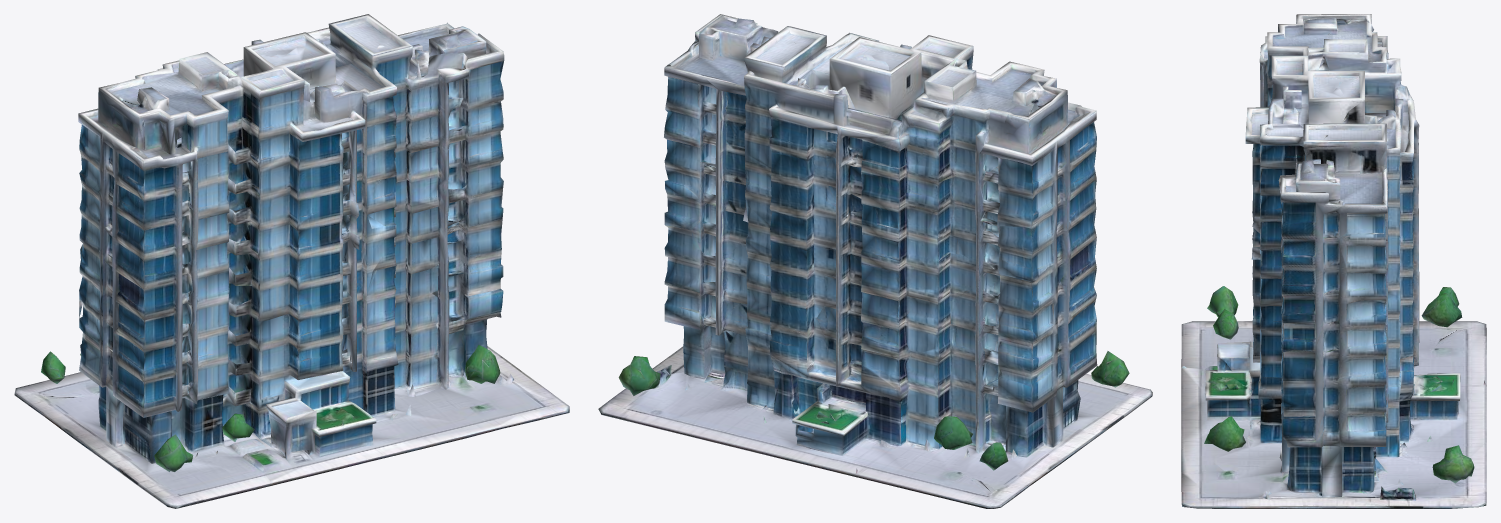
The model's file is housing.glb.
3 renders of one model, left to right at view 1: azimuth 30°, elevation 25°; view 2: azimuth 150°, elevation 25°; view 3: azimuth 270°, elevation 25°, orthographic. The views are drawn at different scales.
Visible parts, largest first — view 1: Mesh_0; view 2: Mesh_0; view 3: Mesh_0.
Boxes of the visible parts, bbox=[...] form: Mesh_0: bbox=[14, 14, 569, 508]; Mesh_0: bbox=[598, 14, 1152, 508]; Mesh_0: bbox=[1181, 14, 1486, 508].
Size of the model in its own units: 1.88 by 1.59 by 1.31.
Materials: 1 (1 with a texture image).
